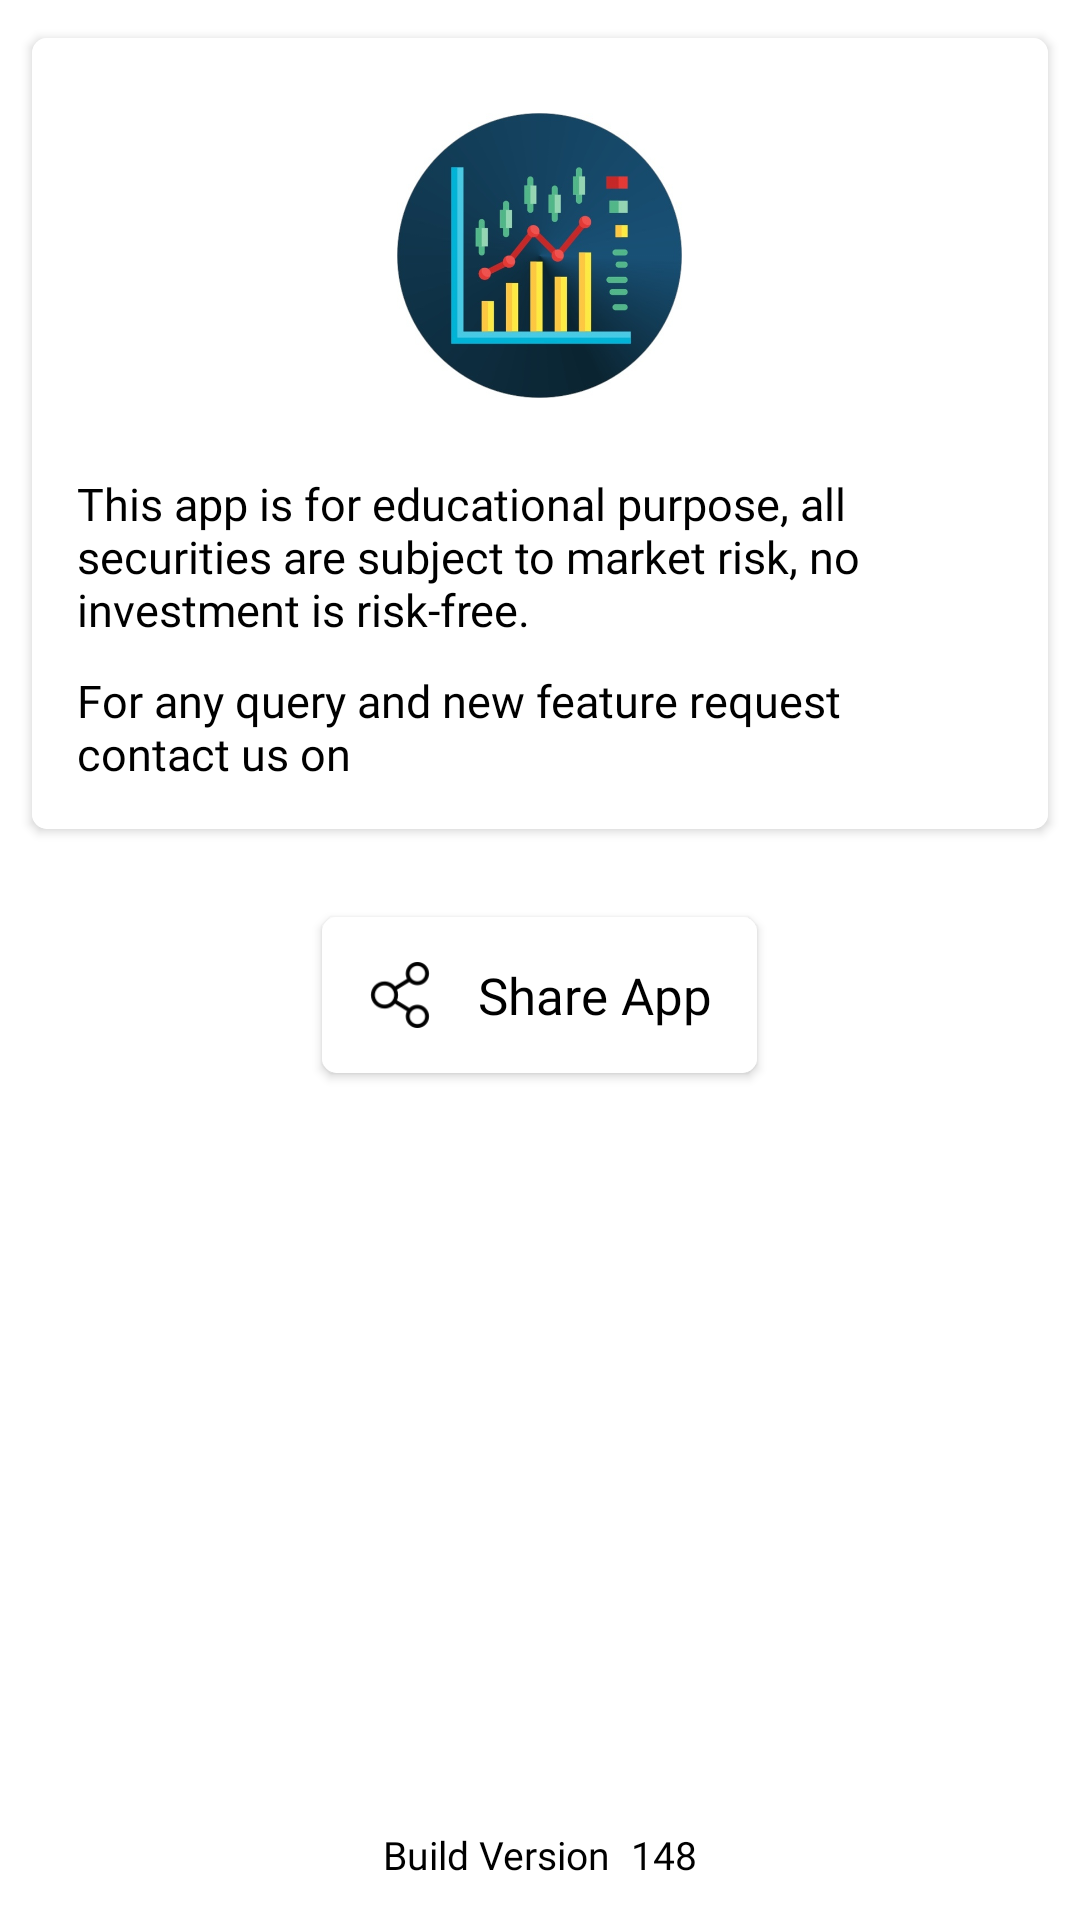

Named icons in this screenshot (1080w x 1920h) and their centers, (x=x, y=y):
sharing: (x=400, y=995)
